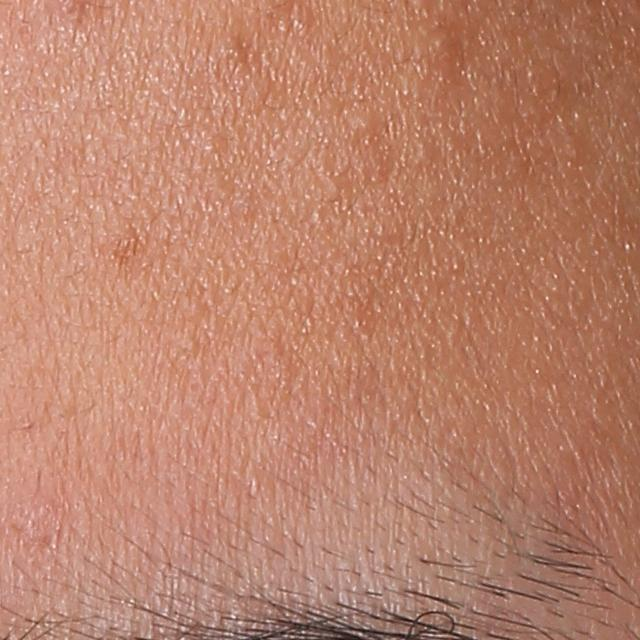comedo: (345, 106, 378, 135)
